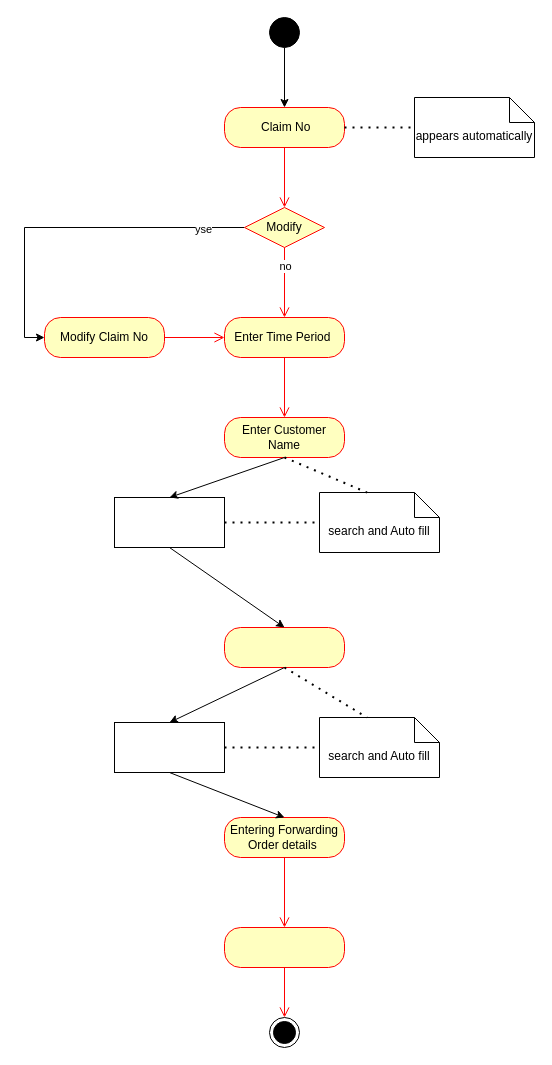
This 552x1065 diagram has some shape labels left out. Here are the shapes that lost their labels. From the top down, the box of each, then its label:
(114, 496, 224, 548): Customers
(224, 626, 344, 668): Enter Inner Transporter
(114, 722, 224, 772): Inner Transporters
(224, 926, 344, 968): Save
